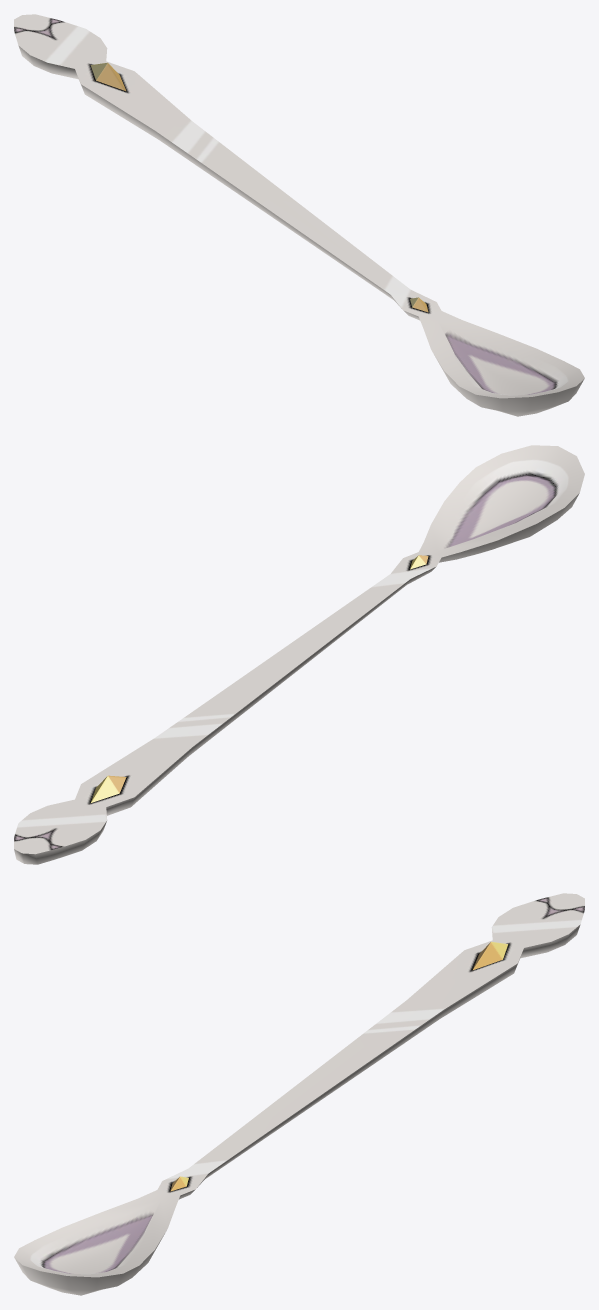
File: Spoon.glb
3 views of the same model, one above another, from view 1: azimuth 30°, elevation 25°; view 2: azimuth 150°, elevation 25°; view 3: azimuth 330°, elevation 25° (orthographic).
Parts seen in each view (by area): view 1: SkillObj_Nicole_Spoon_LOD0; view 2: SkillObj_Nicole_Spoon_LOD0; view 3: SkillObj_Nicole_Spoon_LOD0.
Part boxes in pixels (box(x1,y1,x2,y2)): SkillObj_Nicole_Spoon_LOD0: box(14, 14, 584, 416); SkillObj_Nicole_Spoon_LOD0: box(14, 445, 584, 864); SkillObj_Nicole_Spoon_LOD0: box(14, 893, 584, 1295).
Size of the model in its own units: 0.0158 by 0.00642 by 0.1404.
Materials: 1 (1 with a texture image).
